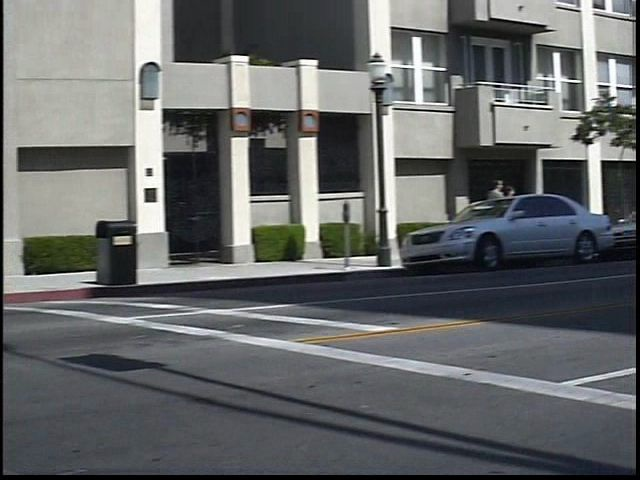person: (495, 174, 519, 249), (514, 182, 534, 244)
